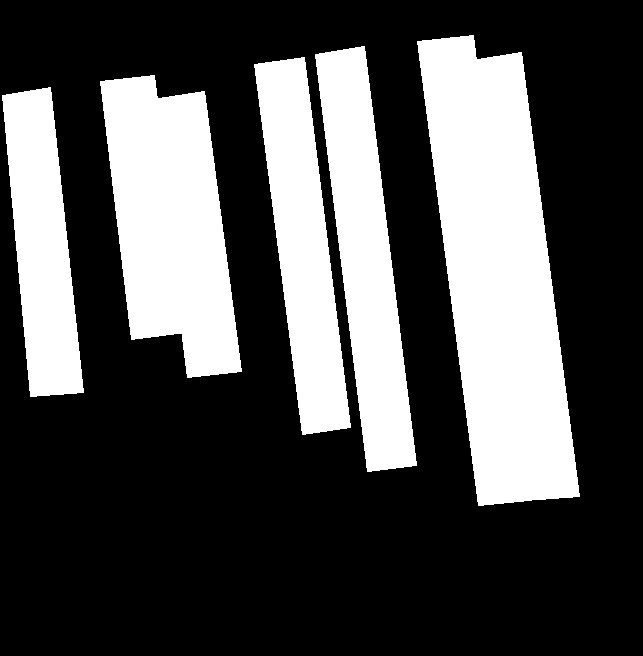parkingspot: (417, 35, 528, 505), (471, 52, 579, 500), (315, 46, 416, 471), (254, 57, 350, 434), (152, 91, 241, 377), (2, 87, 83, 396), (100, 75, 185, 339)
